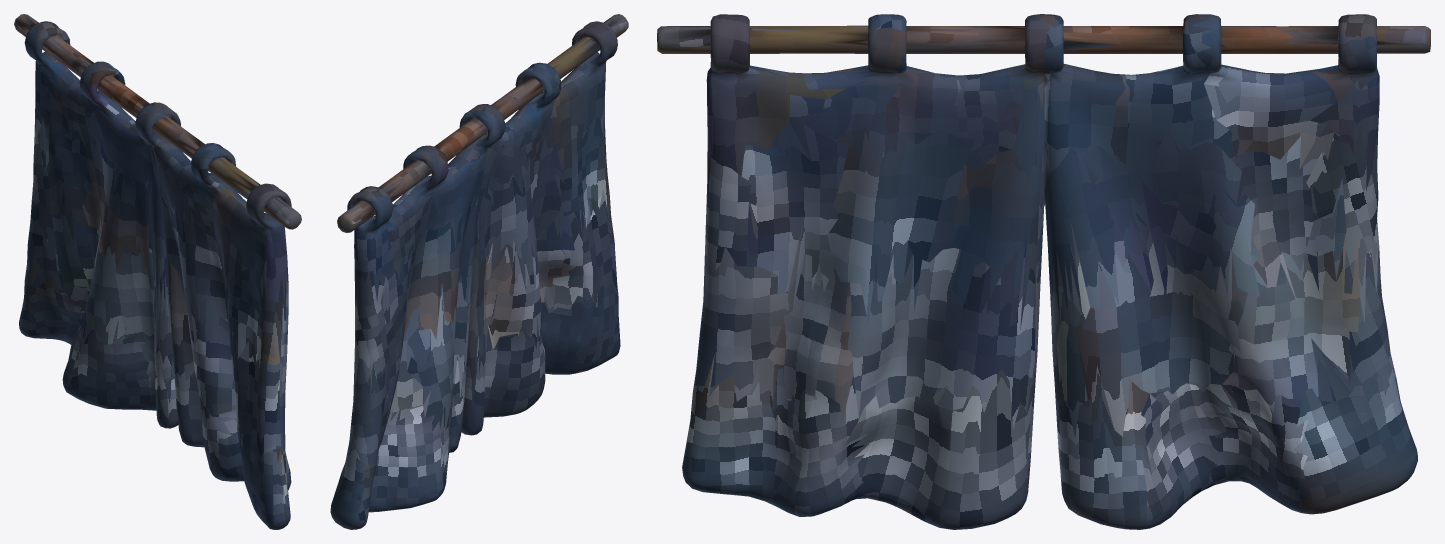
File: JP_사물_s2_deco_noren_curtain.glb
3 views of the same model, side by side, from view 1: azimuth 30°, elevation 25°; view 2: azimuth 150°, elevation 25°; view 3: azimuth 270°, elevation 25° (orthographic). The views are drawn at different scales.
Parts seen in each view (by area): view 1: tripo_node_c7b320d3-9b15-4327-9ae6-03b2782e520b; view 2: tripo_node_c7b320d3-9b15-4327-9ae6-03b2782e520b; view 3: tripo_node_c7b320d3-9b15-4327-9ae6-03b2782e520b.
Part boxes in pixels (box(x1,y1,x2,y2)): tripo_node_c7b320d3-9b15-4327-9ae6-03b2782e520b: box(14, 14, 301, 529); tripo_node_c7b320d3-9b15-4327-9ae6-03b2782e520b: box(330, 14, 628, 529); tripo_node_c7b320d3-9b15-4327-9ae6-03b2782e520b: box(657, 14, 1430, 529).
Bounding box in the file's own units: 0.1653 × 0.6906 × 0.9996.
Materials: 1 (1 with a texture image).
